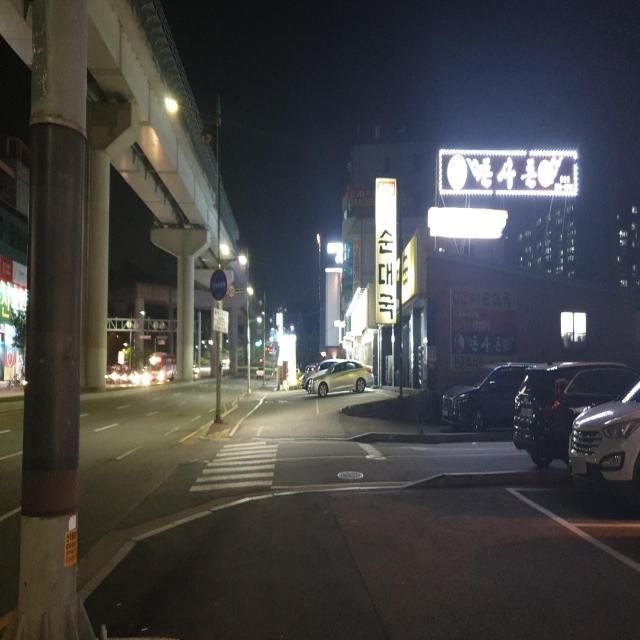횡단보도: (189, 440, 278, 494)
